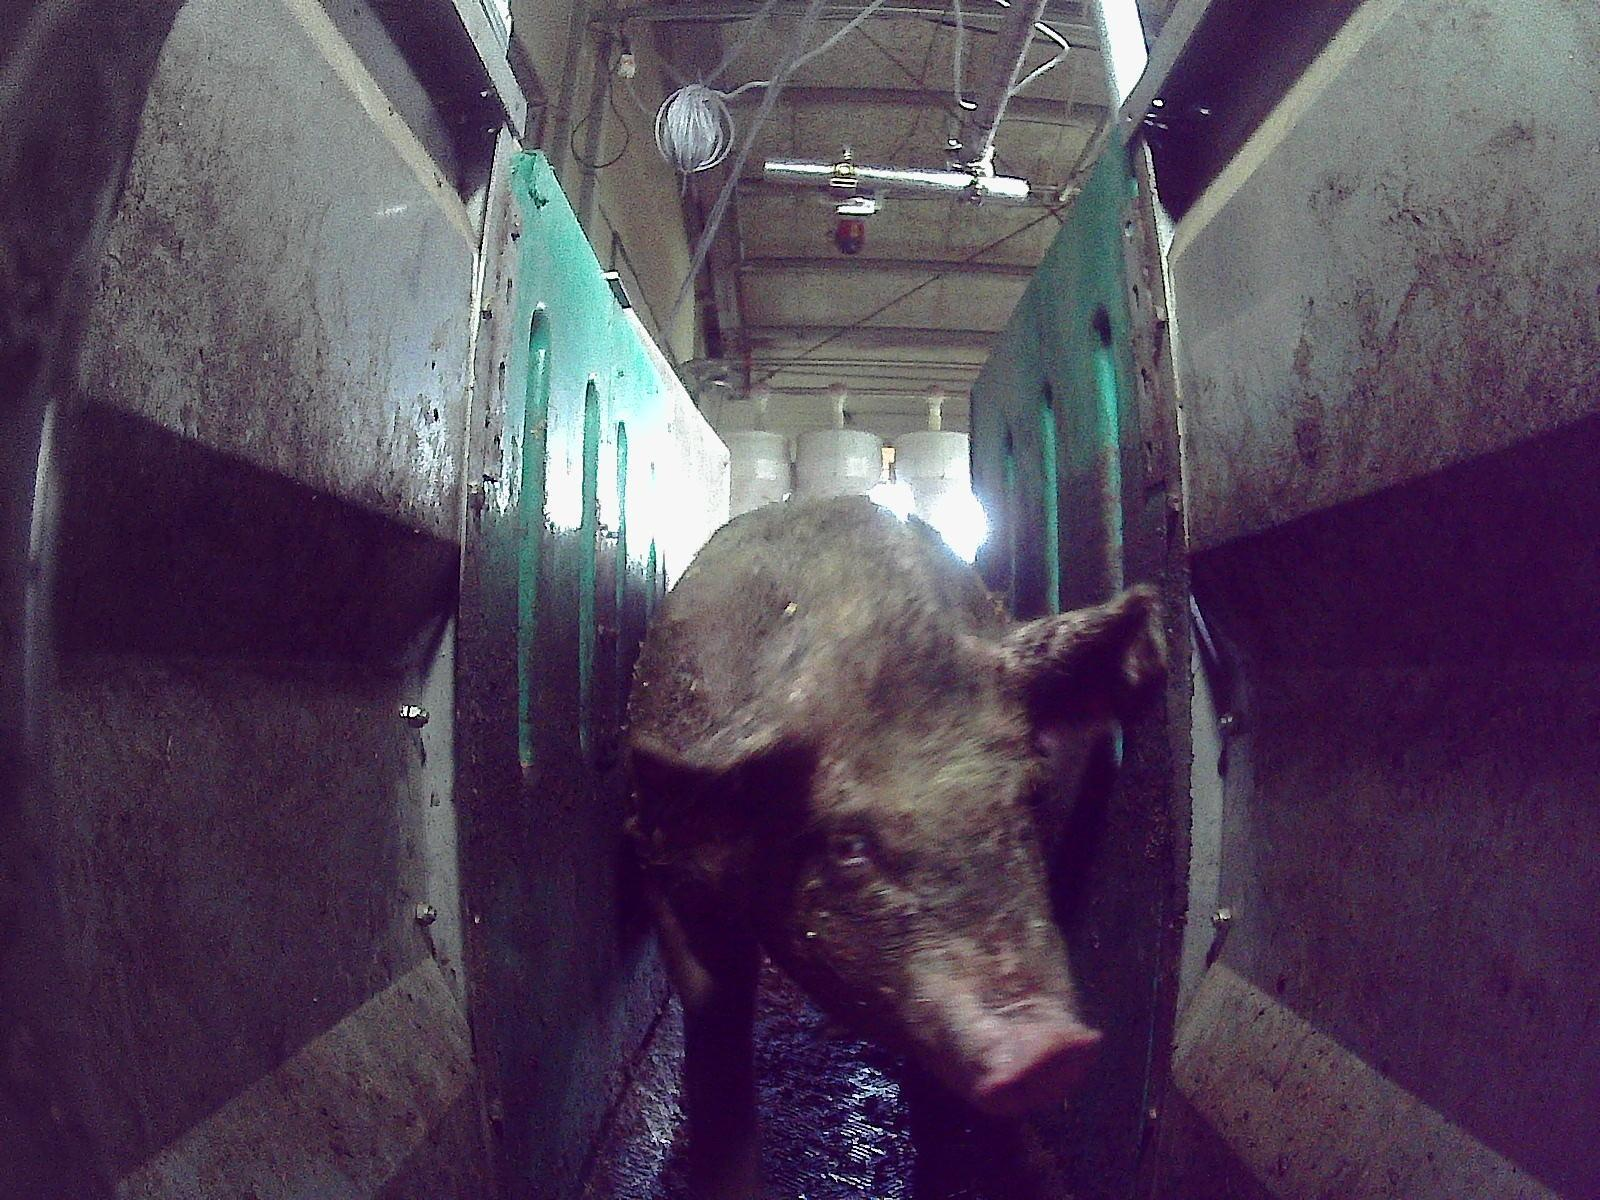Face: (780, 638, 1102, 1118)
